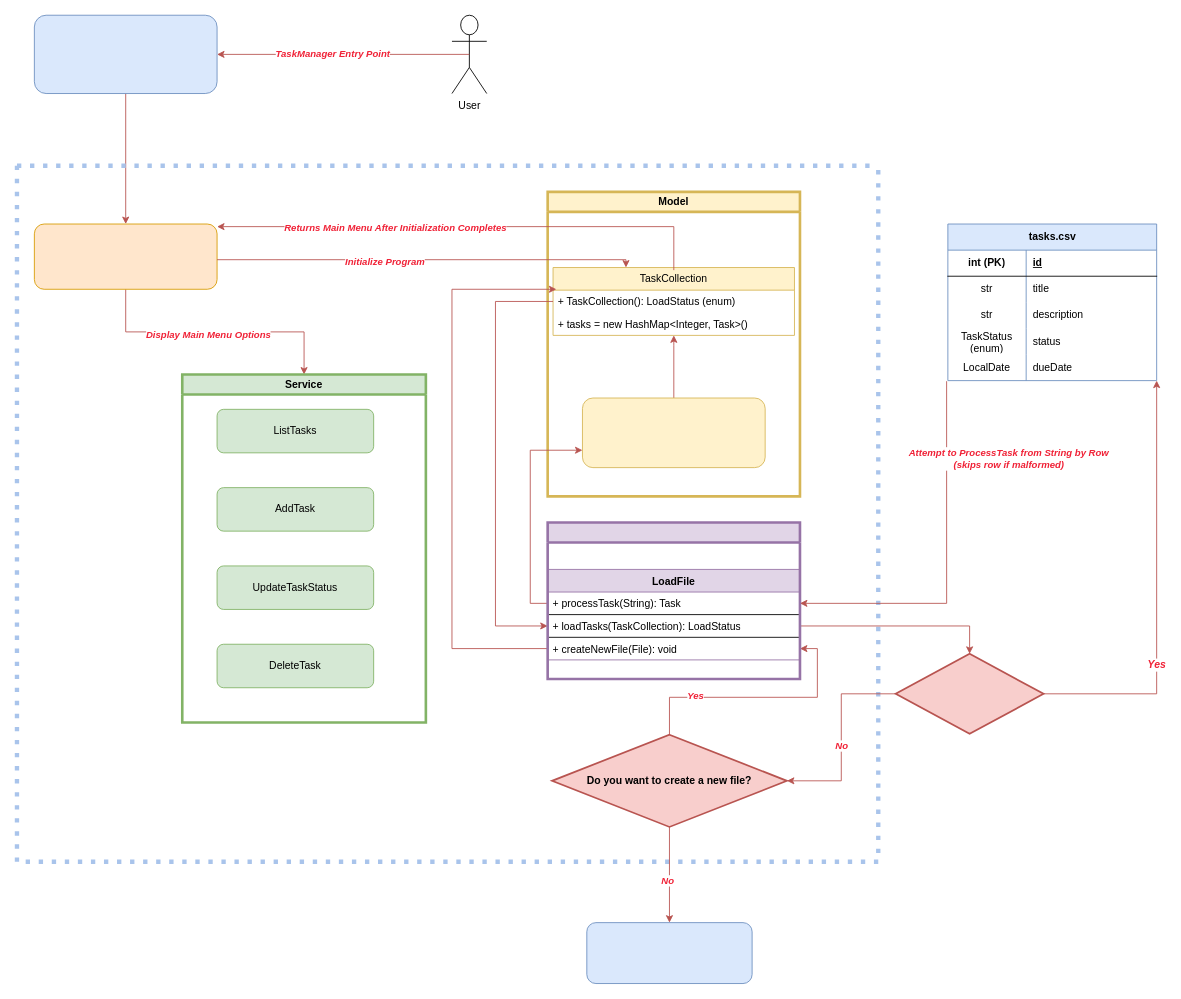
Image size: 1181x999. Some labels were removed from this diagram. Each missing label, with the centre of its shape:
Close Application: the point at 669,953
Console UI: the point at 125,54
Does `tasks.csv` exist: the point at 969,693
Menu: the point at 125,256
Persistence: the point at 673,600
Task (id, title, description, status, dueDate): the point at 673,432
